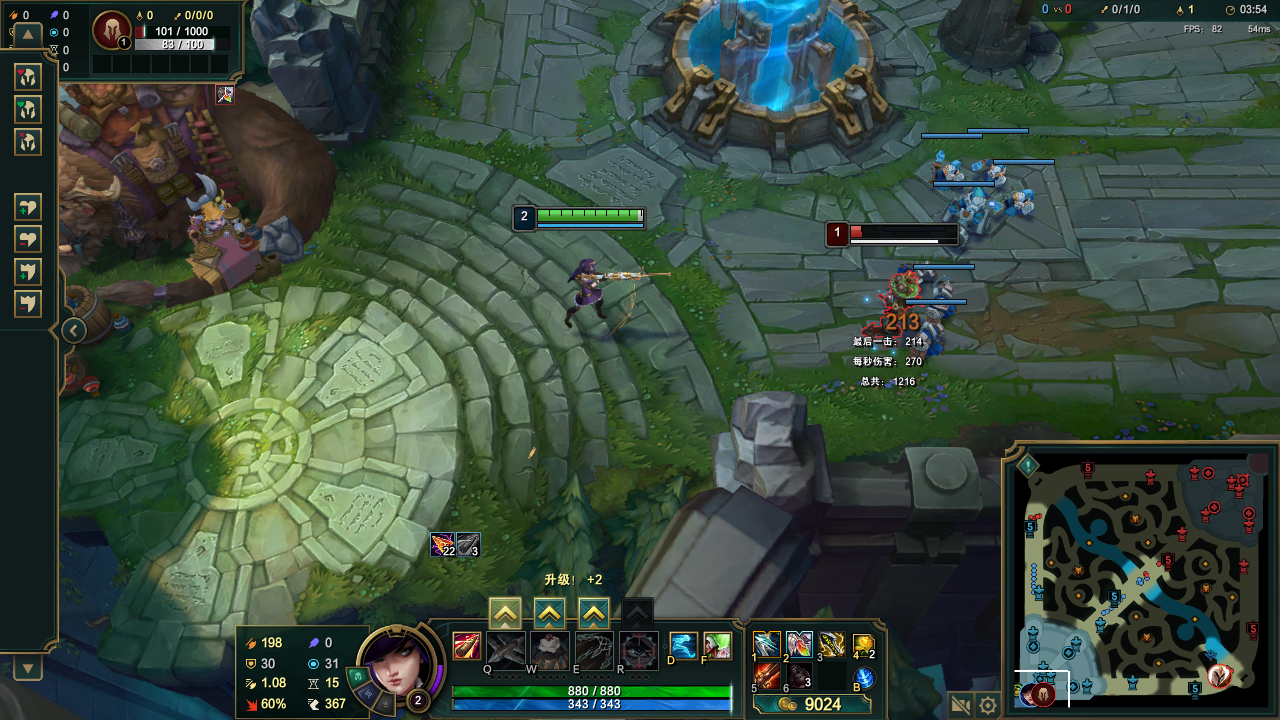DFYX: (845, 223, 958, 239)
